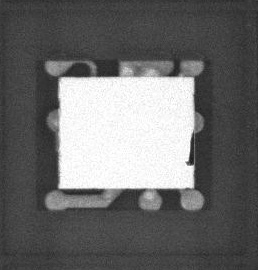DIE_BROKEN: (184, 133, 196, 167)
